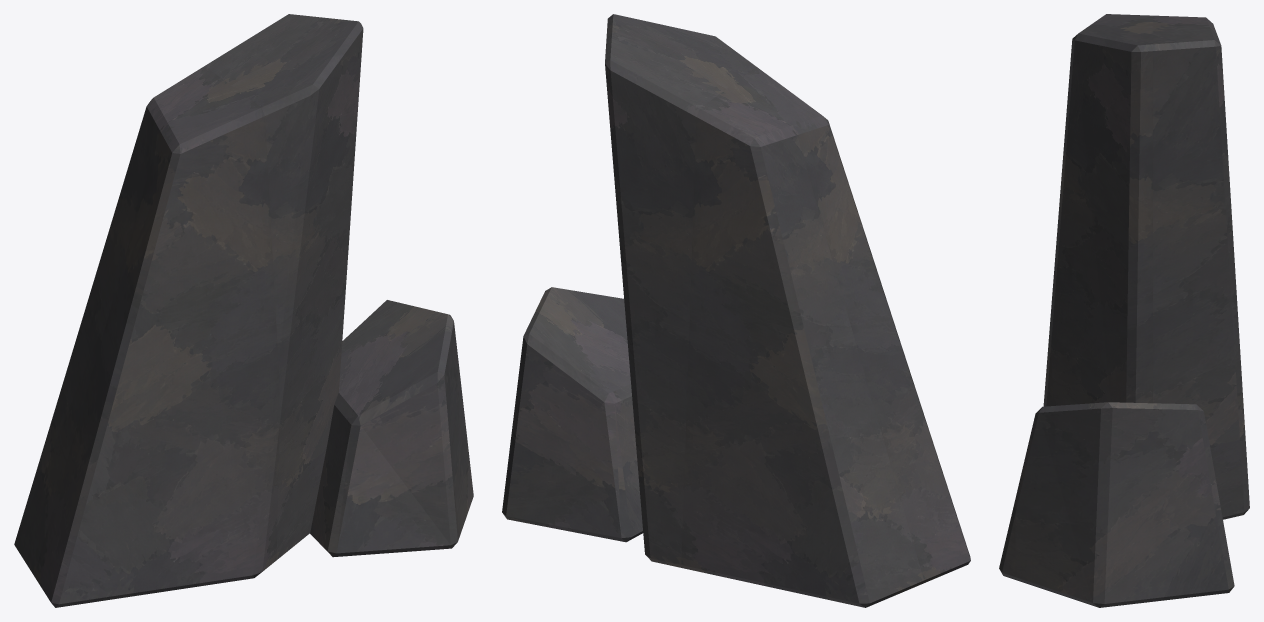
The model's file is slate-shard.glb.
3 views of the same model, side by side, from view 1: azimuth 30°, elevation 25°; view 2: azimuth 150°, elevation 25°; view 3: azimuth 270°, elevation 25° (orthographic). The views are drawn at different scales.
Parts seen in each view (by area): view 1: slate-shard; view 2: slate-shard; view 3: slate-shard.
Part boxes in pixels (x1,y1,x2,y2): slate-shard: (14,14,473,607); slate-shard: (502,14,970,607); slate-shard: (999,14,1249,607).
Size of the model in its own units: 1.97 by 2.14 by 0.9467.
Materials: 2 (2 with a texture image).
